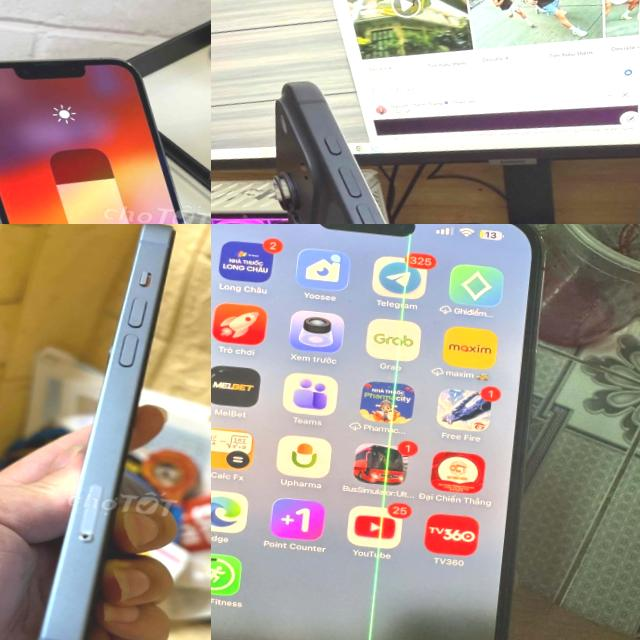gen_12_13: (0, 40, 211, 224)
gen_14: (10, 224, 191, 640)
gen_15: (211, 224, 560, 640)
gen_17: (274, 82, 386, 224)
screen_defect: (360, 382, 403, 640), (388, 230, 418, 381)
